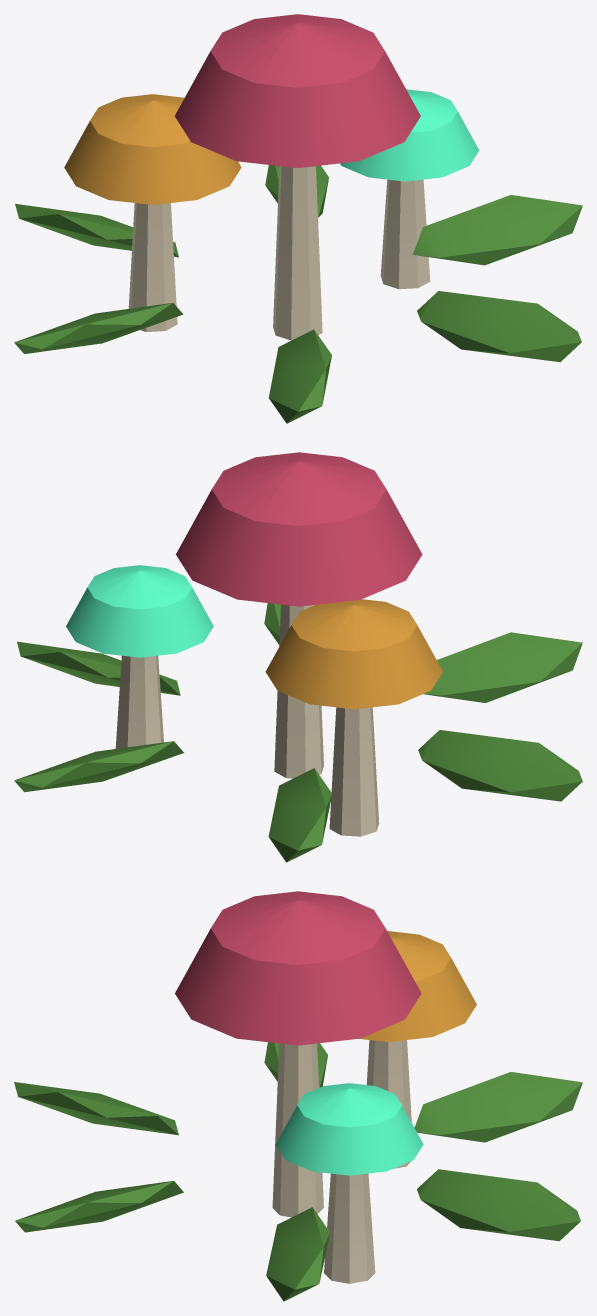
The model's file is mushroom.glb.
The picture shows the model from 3 angles, top to bottom: view 1: azimuth 30°, elevation 25°; view 2: azimuth 150°, elevation 25°; view 3: azimuth 270°, elevation 25°; orthographic projection.
Visible parts, largest first — view 1: mushroom; view 2: mushroom; view 3: mushroom.
Boxes of the visible parts, x1,y1,x2,y2 form: mushroom: (14, 14, 582, 423); mushroom: (14, 452, 582, 862); mushroom: (14, 891, 582, 1301).
Size of the model in its own units: 2.55 by 1.32 by 2.21.
